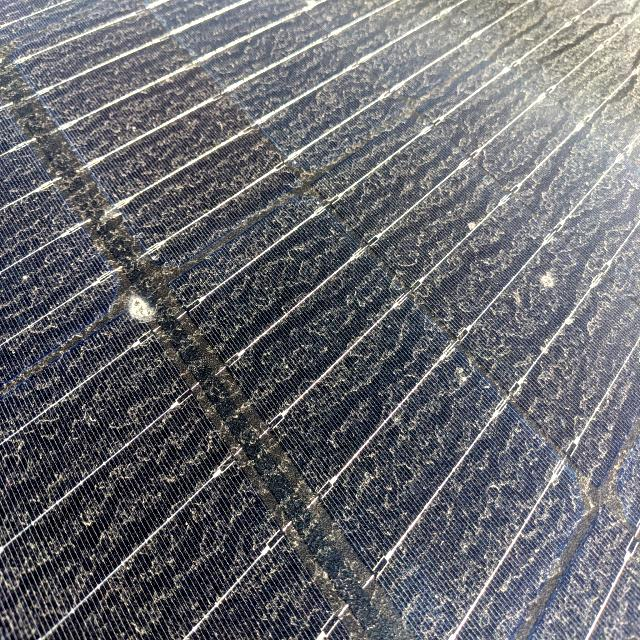bird: (91, 246, 194, 341)
dust: (177, 87, 350, 336), (92, 397, 280, 590), (328, 434, 544, 586), (382, 225, 552, 412), (572, 208, 640, 612), (406, 38, 578, 188), (16, 56, 160, 218), (0, 410, 79, 629), (180, 7, 370, 68)
